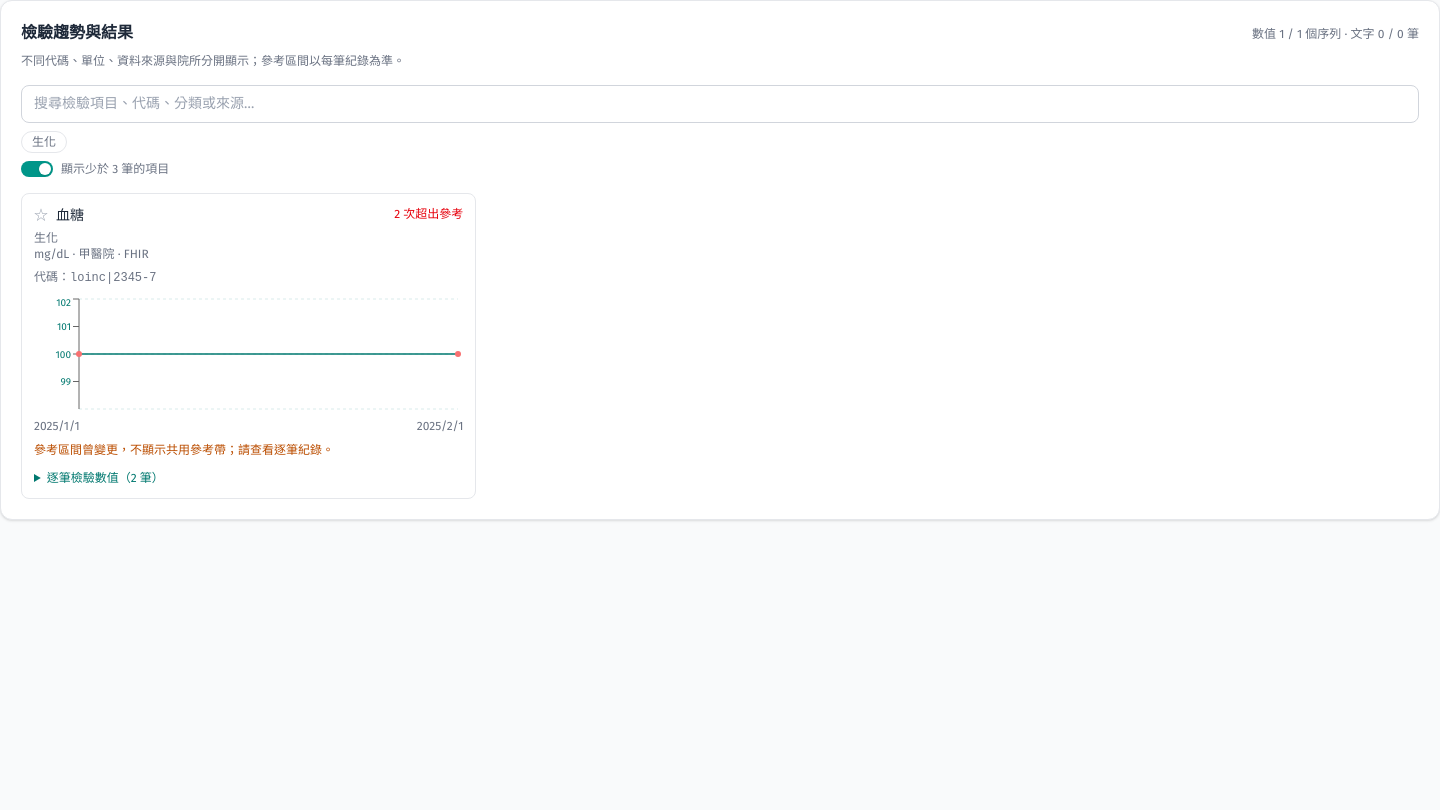
Test: LabTrendCharts clinical presentation › omits shared reference bands after range changes and exposes each reading range and source
The image size is (1440, 810).
Expected: the text "參考區間曾變更，不顯示共用參考帶；請查看逐筆紀錄。" is shown, [34,443,334,457]
Click the heading "逐筆檢驗數值（2 筆）": (105, 478) [47,471,164,485]
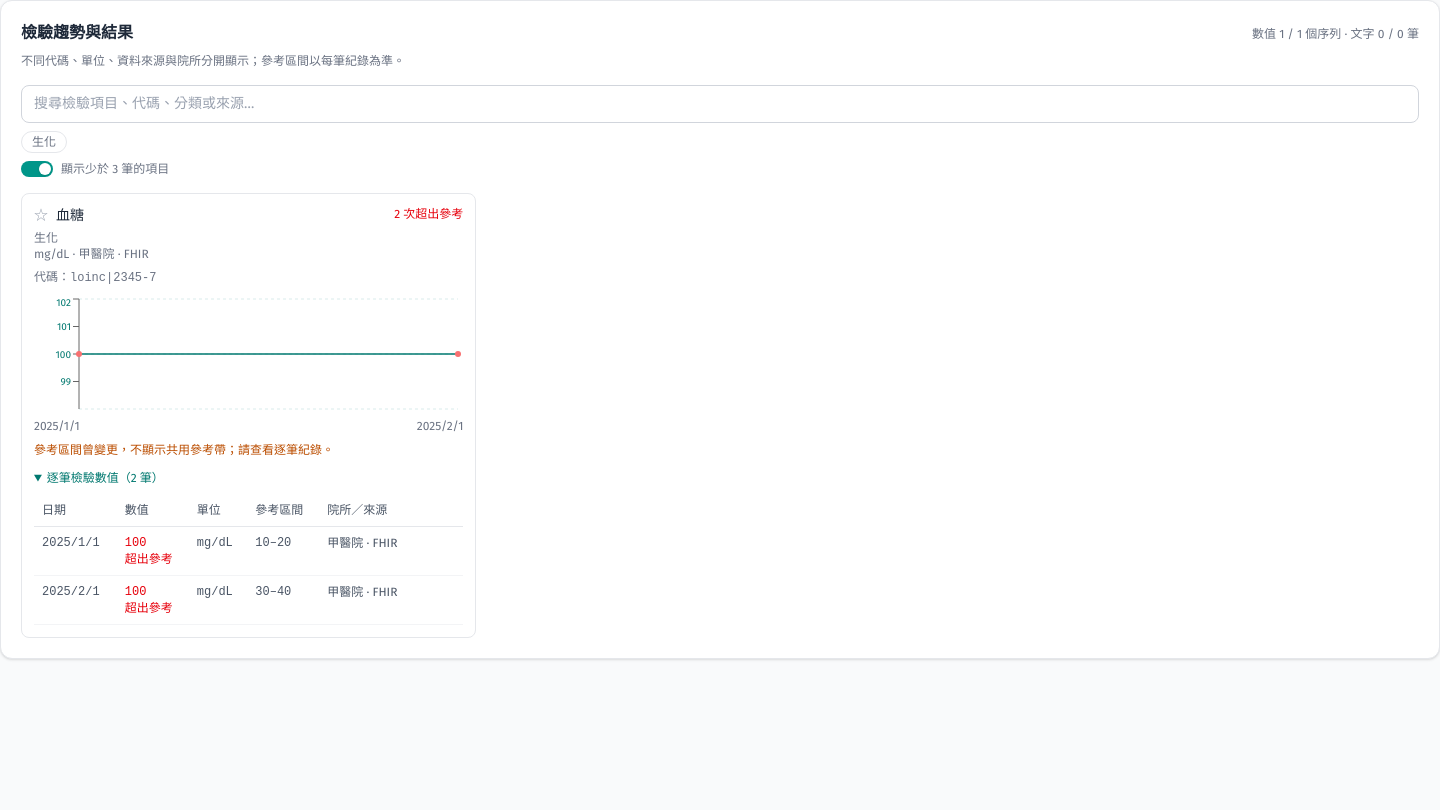
Now the text "10–20" is shown, box [247,527,319,576]
Now the text "30–40" is shown, box [247,576,319,624]
Now the text "甲醫院 · FHIR" is shown 2 times, box [327,536,397,550]; [327,585,397,599]
